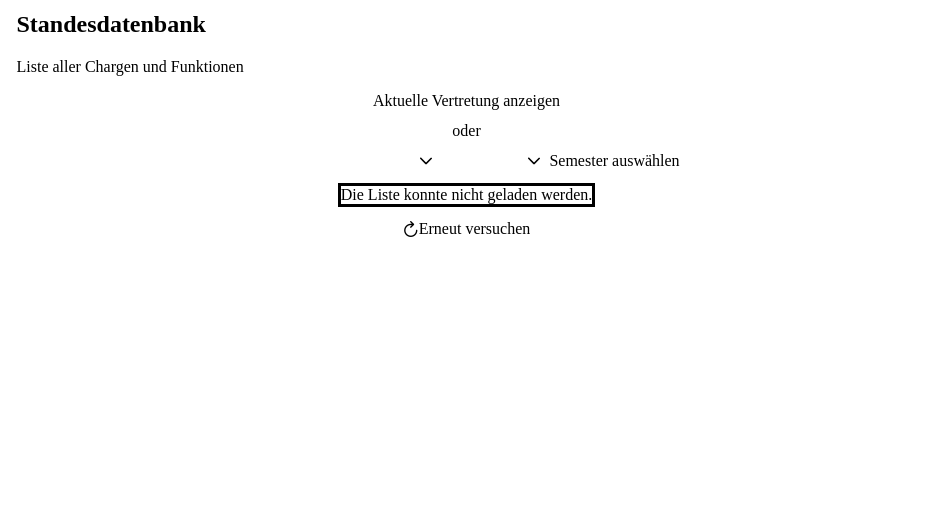
Scenario: RolesListView › shows a retry state instead of a silently empty list when loading fails
The width and height of the screenshot is (934, 517).
Expected: the text "Chargenkabinett" is not shown
Click the button "Erneut versuchen": click(466, 229) [403,220,530,238]
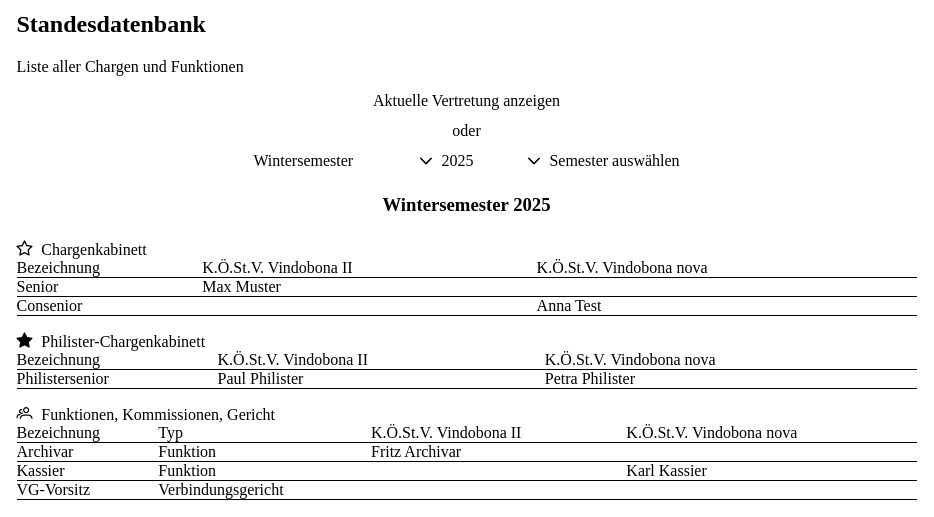
Now the text "konnte nicht geladen werden" is gone
Now the text "Max Muster" is shown, box [202,278,281,295]
